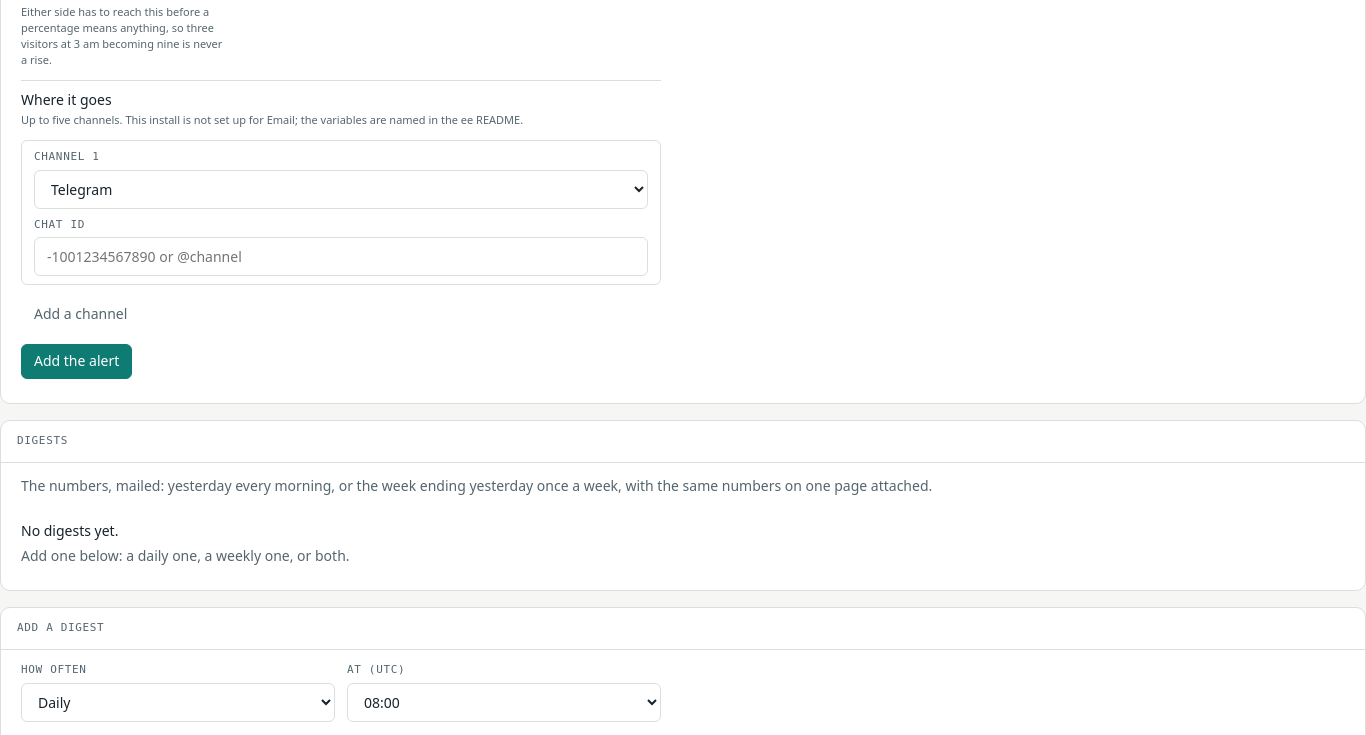
Alerts, adding one › asks for a name and a target before it sends anything
(page scrolled)
Click the button "Add the alert".
click(77, 362)  # box [21,344,132,379]
(page scrolled)
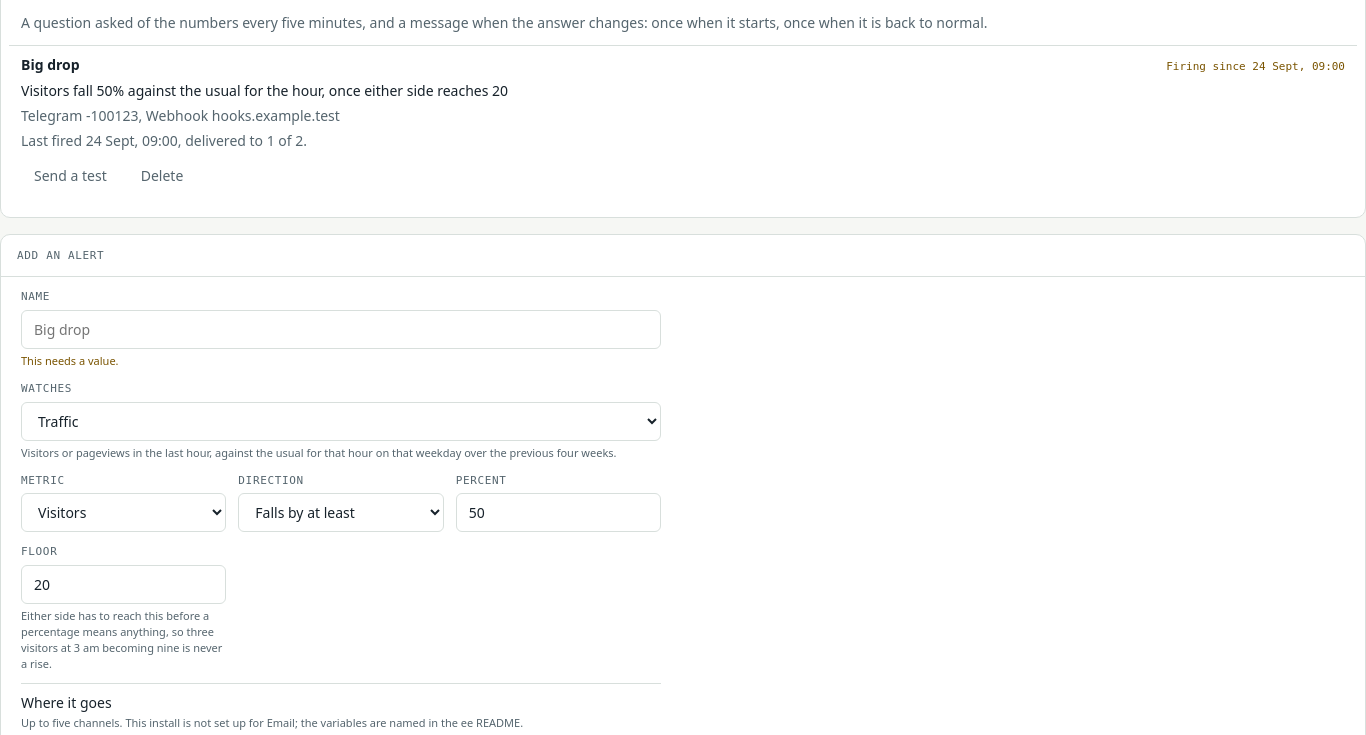
Expected: the text "This needs a value." is shown, [21,353,119,368]
